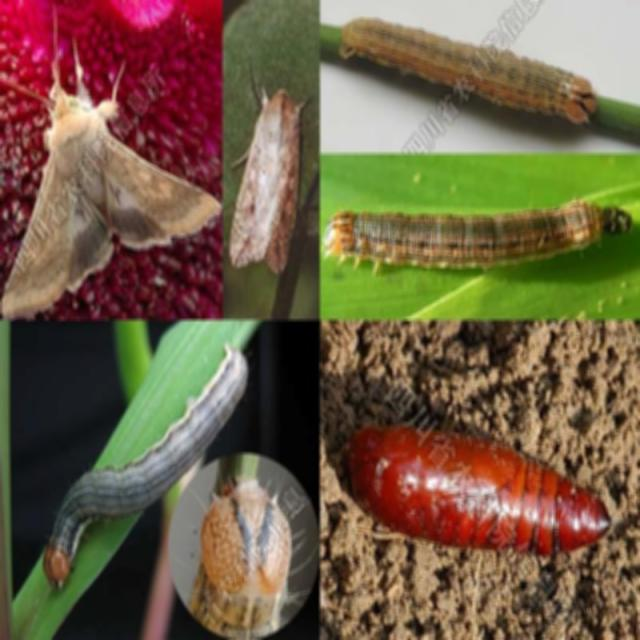army worm: (6, 49, 223, 319), (33, 342, 259, 592), (344, 408, 621, 571), (341, 9, 601, 132), (330, 201, 635, 270), (194, 476, 299, 629), (237, 80, 308, 276)
